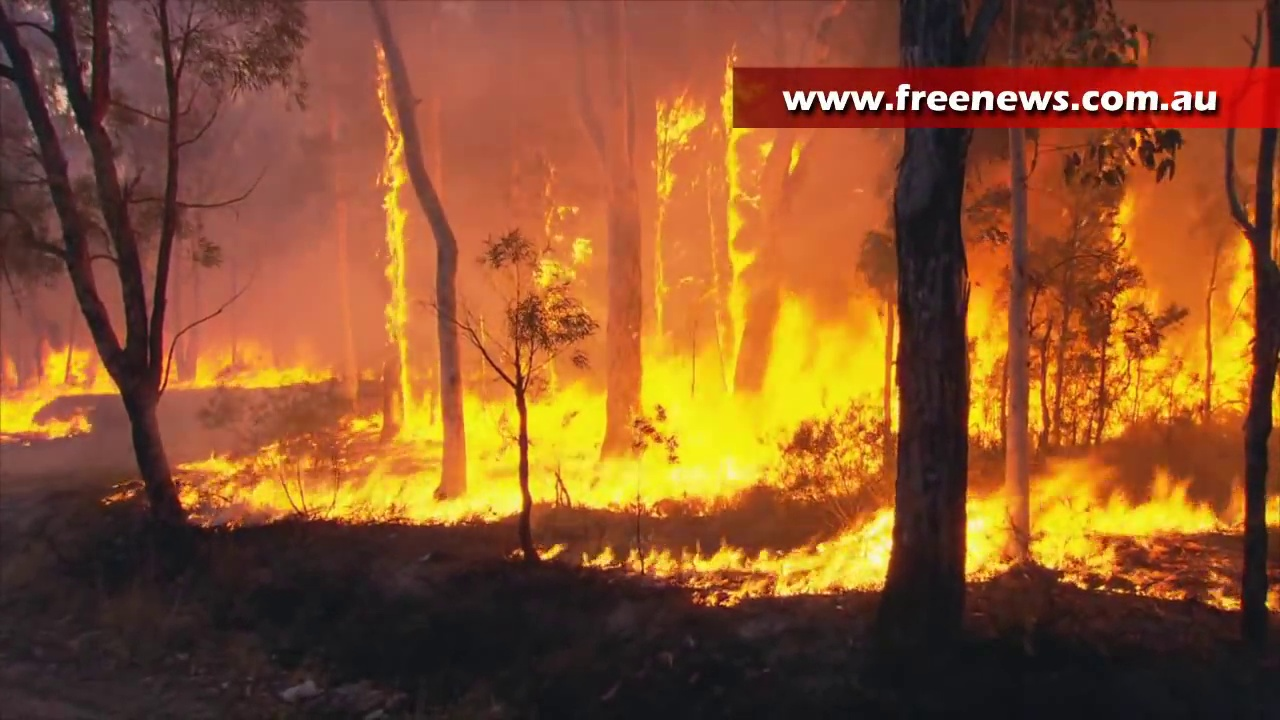fire: (396, 295, 900, 522), (972, 234, 1254, 434), (967, 475, 1239, 599), (610, 518, 893, 606), (175, 441, 401, 525), (2, 352, 104, 438), (382, 55, 406, 348), (200, 348, 326, 384), (726, 119, 742, 277), (657, 93, 705, 141), (655, 150, 672, 223), (537, 262, 570, 284), (1264, 495, 1280, 525), (572, 241, 592, 260), (789, 145, 800, 165)
